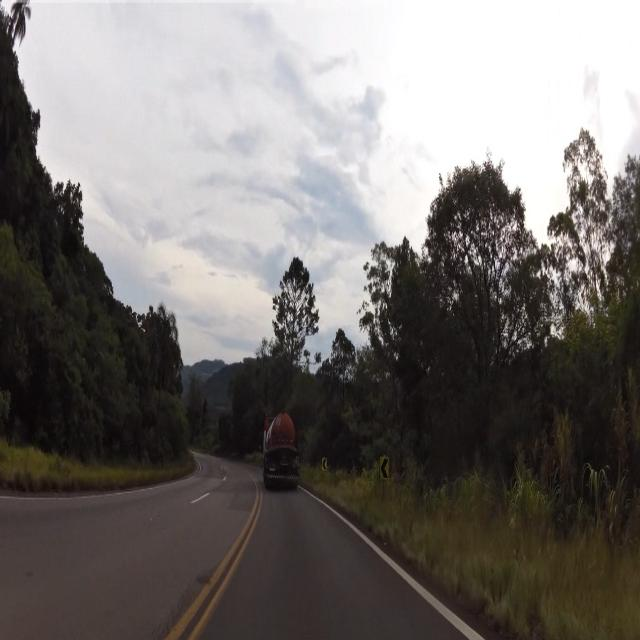Del: (379, 452, 391, 481)
